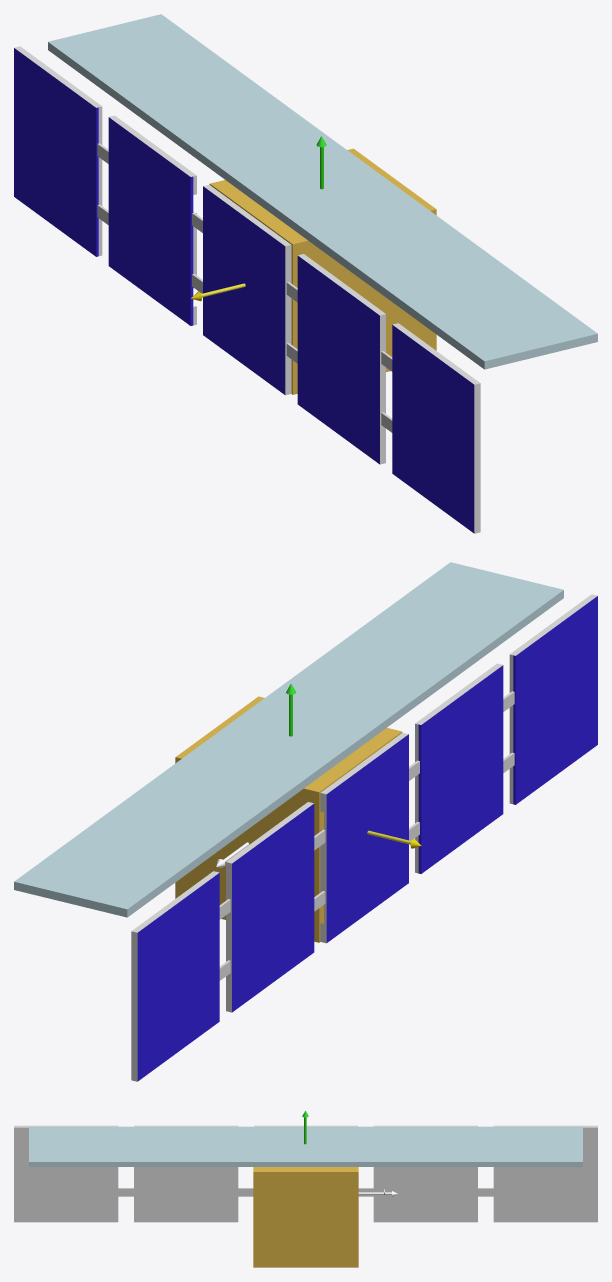
3 renders of one model, top to bottom at view 1: azimuth 30°, elevation 25°; view 2: azimuth 150°, elevation 25°; view 3: azimuth 270°, elevation 25°, orthographic. The views are drawn at different scales.
Parts seen in each view (by area): view 1: SOLP, RAD, Plane, Cube, SOLP_connection; view 2: SOLP, RAD, Plane, Cube, SOLP_connection; view 3: Plane, RAD, Cube, SOLP_connection.
Boxes of the visible parts, x1=… form: SOLP: x1=14, y1=48, x2=474, y2=533; RAD: x1=48, y1=14, x2=597, y2=369; Plane: x1=14, y1=46, x2=480, y2=533; Cube: x1=209, y1=148, x2=436, y2=394; SOLP_connection: x1=97, y1=143, x2=392, y2=432; SOLP: x1=137, y1=596, x2=597, y2=1081; RAD: x1=14, y1=562, x2=563, y2=917; Plane: x1=131, y1=594, x2=597, y2=1081; Cube: x1=175, y1=696, x2=402, y2=942; SOLP_connection: x1=219, y1=691, x2=514, y2=980; Plane: x1=14, y1=1125, x2=597, y2=1222; RAD: x1=29, y1=1126, x2=582, y2=1166; Cube: x1=253, y1=1167, x2=358, y2=1267; SOLP_connection: x1=118, y1=1188, x2=493, y2=1196.
Bounding box in the file's own units: 2.71 × 2.68 × 10.55.
